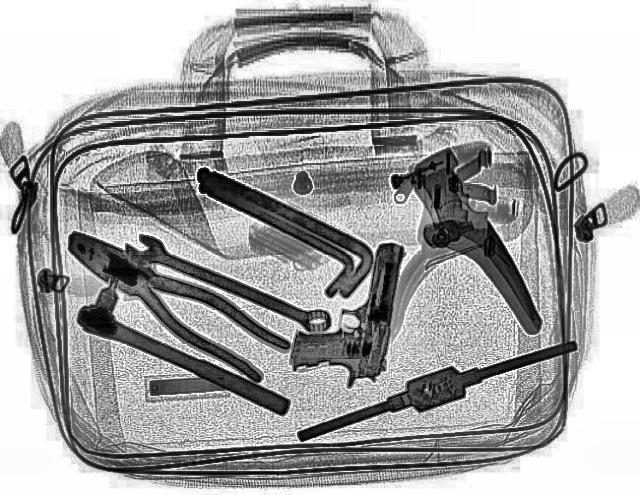Gun: (286, 236, 404, 388)
Pliers: (42, 219, 304, 383)
Wrench: (116, 229, 338, 339)
